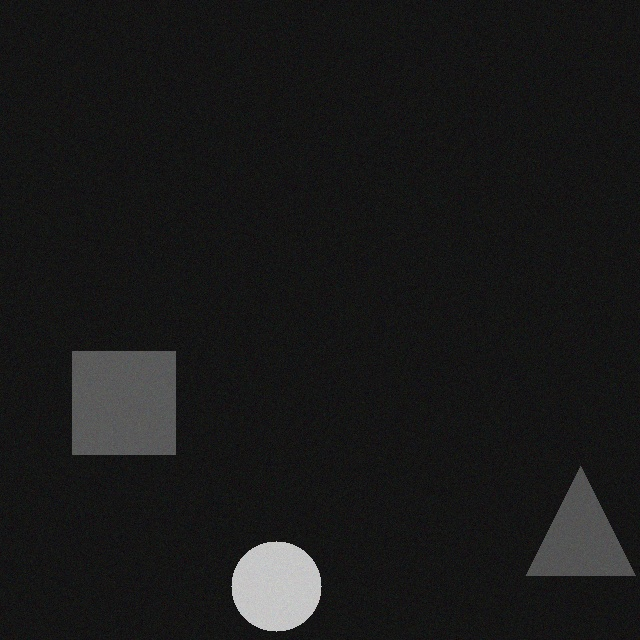circle: (216, 535, 306, 625)
square: (57, 345, 160, 448)
triangle: (511, 460, 620, 569)
